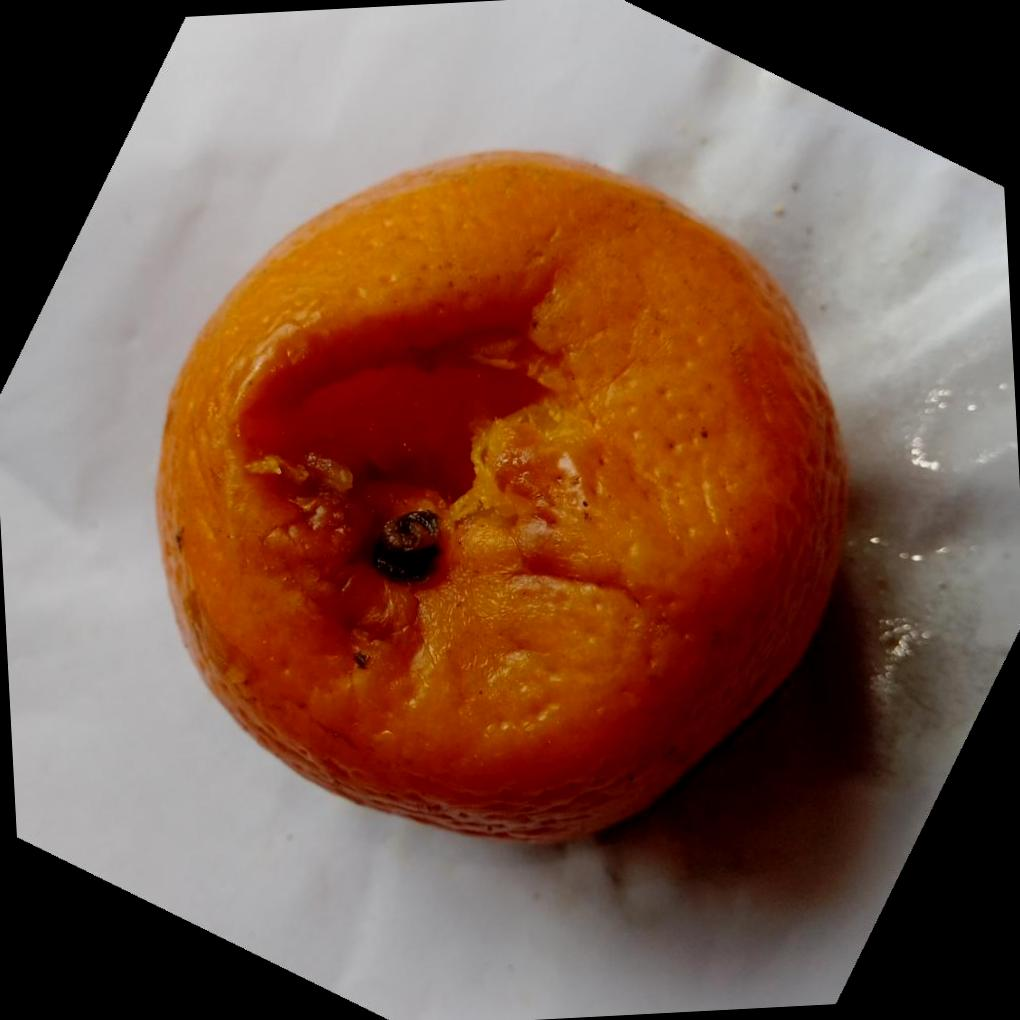FreshOrange: (151, 151, 850, 850)
